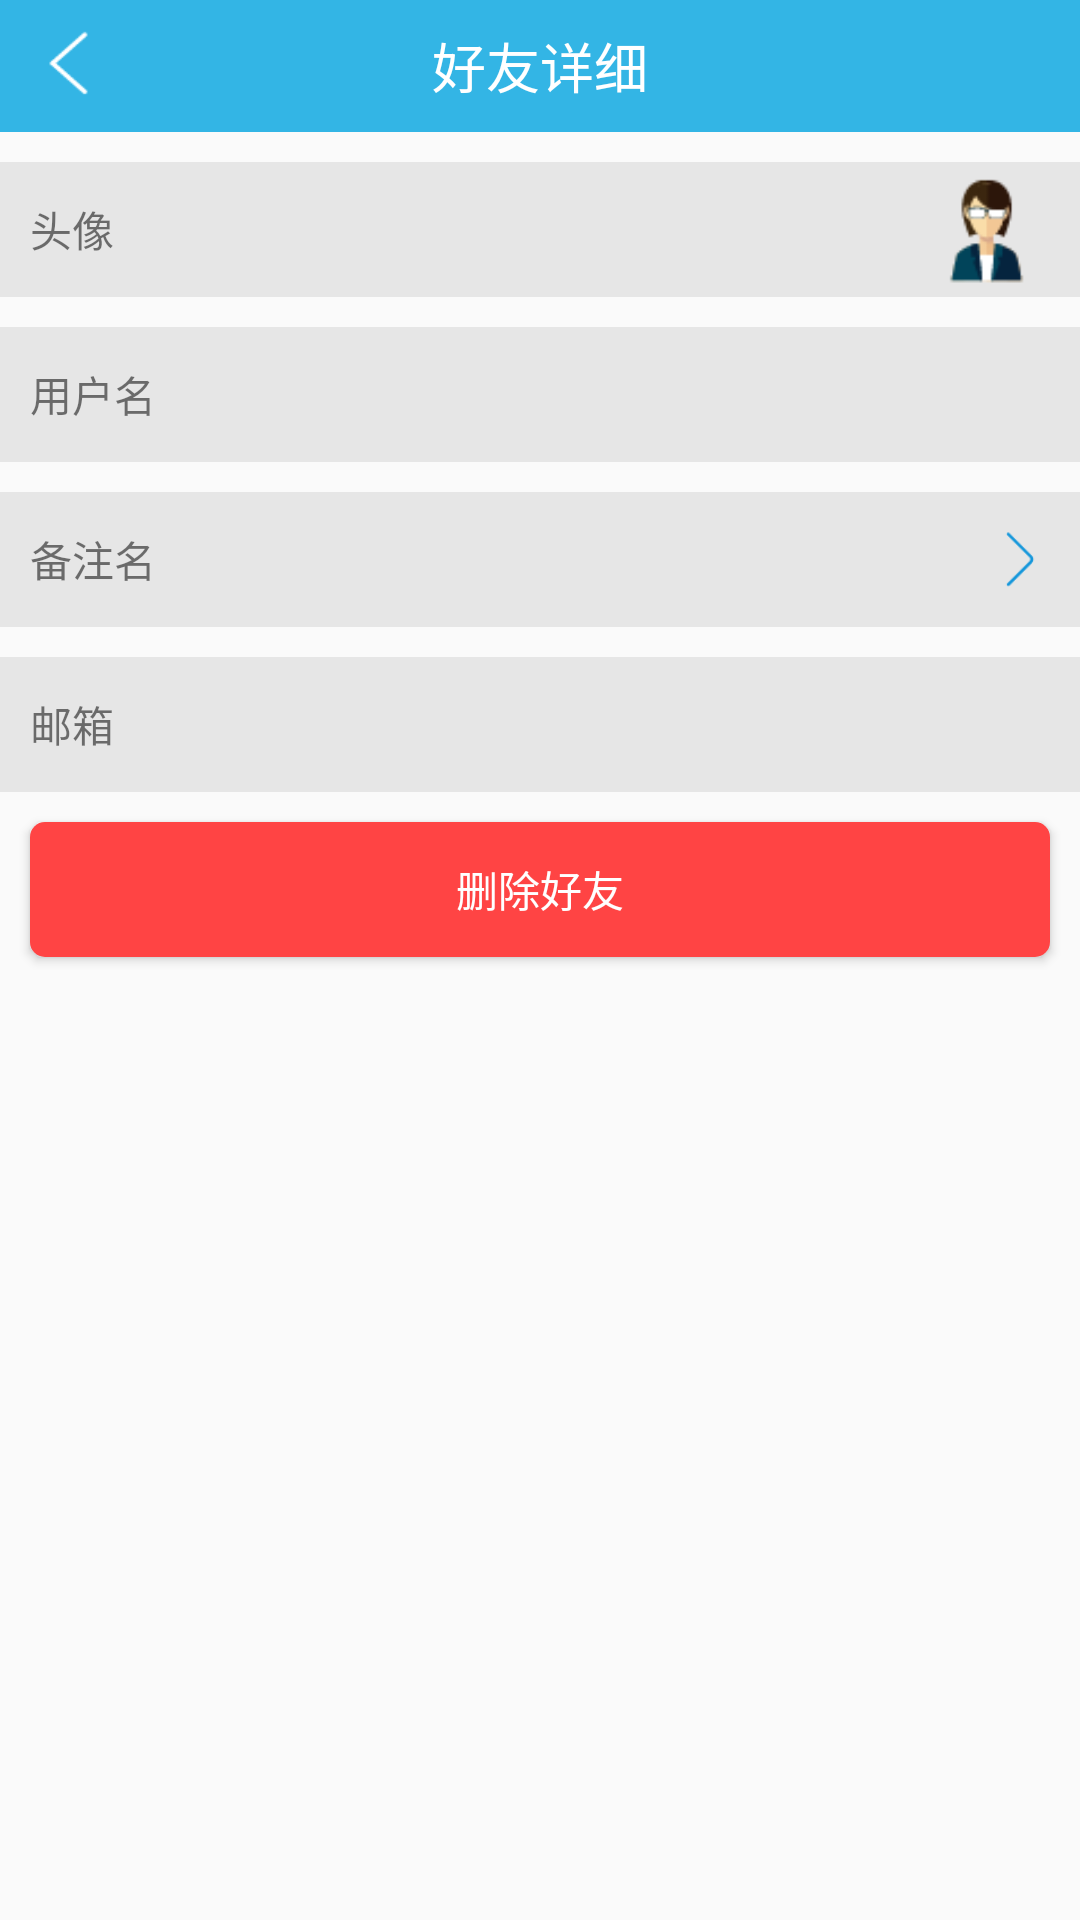

Where to tap for icons on this 1080×1920 app screen, as point (x, y):
back: point (68, 63)
head: point (986, 231)
next: point (1020, 559)
